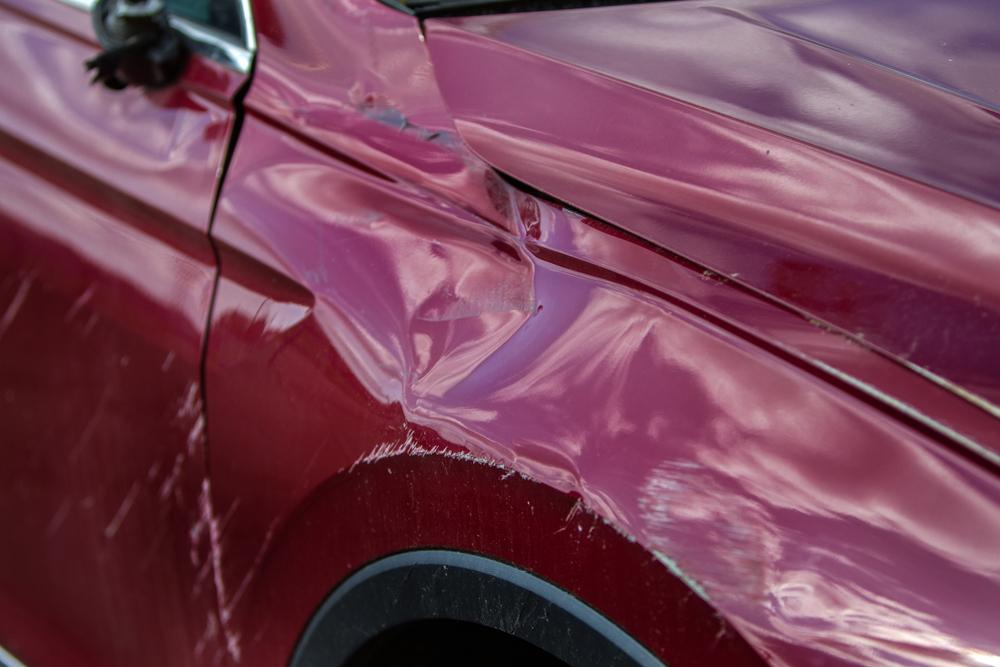dent: (227, 157, 1000, 666)
scratch: (0, 274, 271, 667), (347, 432, 493, 474)
